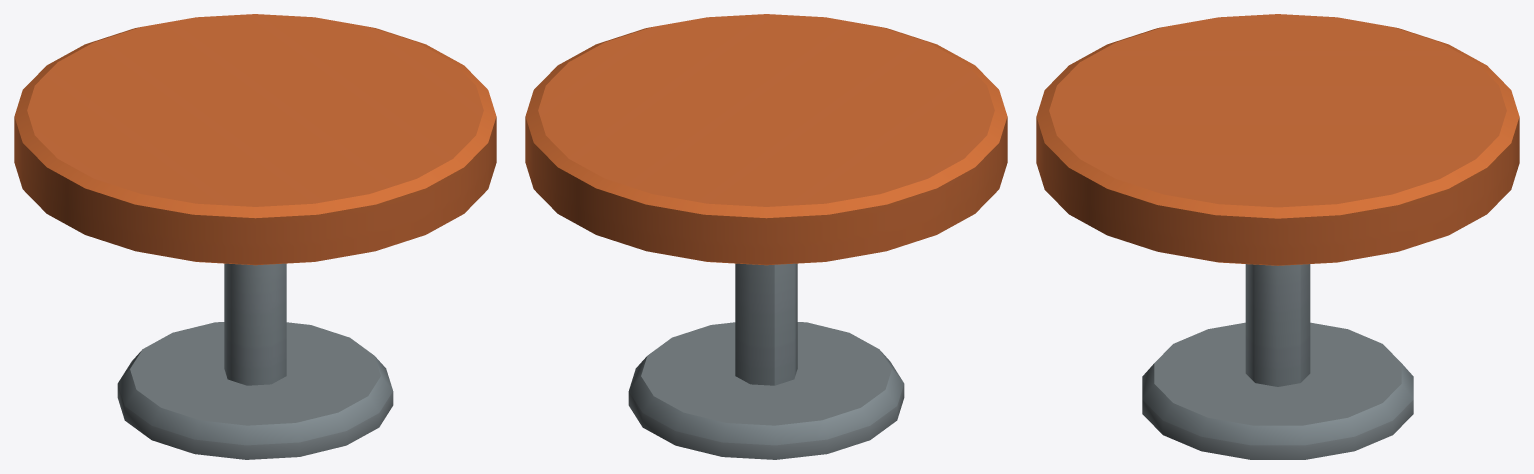
The model's file is kaykit-restaurant-bits-table-round-a-small.glb.
The picture shows the model from 3 angles, left to right: view 1: azimuth 30°, elevation 25°; view 2: azimuth 150°, elevation 25°; view 3: azimuth 270°, elevation 25°; orthographic projection.
Parts seen in each view (by area): view 1: table_round_A_small; view 2: table_round_A_small; view 3: table_round_A_small.
Part boxes in pixels (<box>): table_round_A_small: <box>14,14,496,459</box>; table_round_A_small: <box>525,14,1007,459</box>; table_round_A_small: <box>1036,14,1519,459</box>.
Size of the model in its own units: 1.5 by 1 by 1.5.
Materials: 1 (1 with a texture image).
